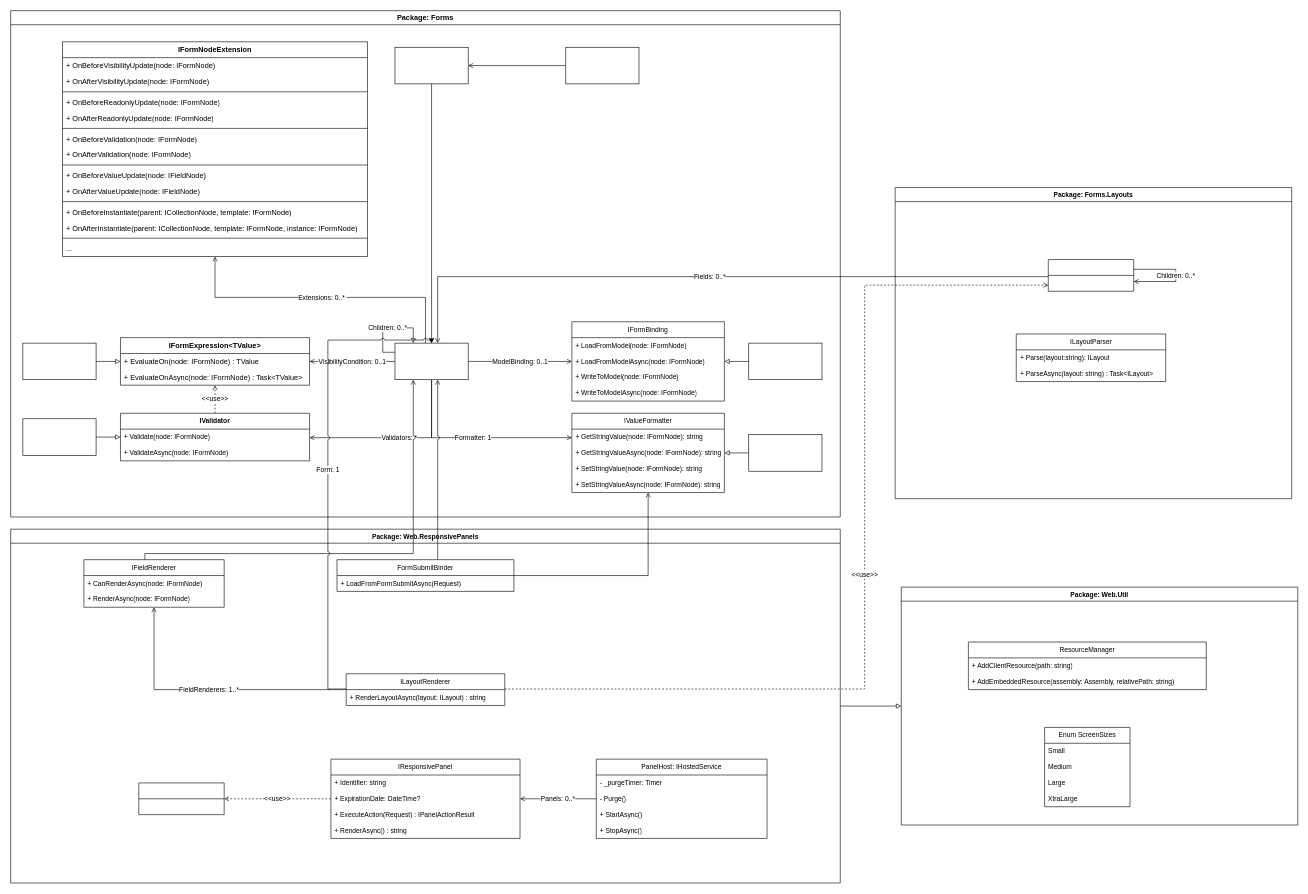
Image size: 1308x894. Some labels were removed from this diagram. The shapes that lost their labels are listed below. From the top down, each one's centre as x and y in pixels, then its label:
At point (431, 65): "FormNode".
At point (602, 65): "IFormBuilder".
At point (1091, 275): "ILayoutNode".
At point (59, 361): "Default Expressions".
At point (431, 361): "IFormNode".
At point (785, 361): "PropertyBinder".
At point (59, 436): "Default Validators".
At point (785, 452): "Default formatters".
At point (181, 798): "IPanelActionResult".
